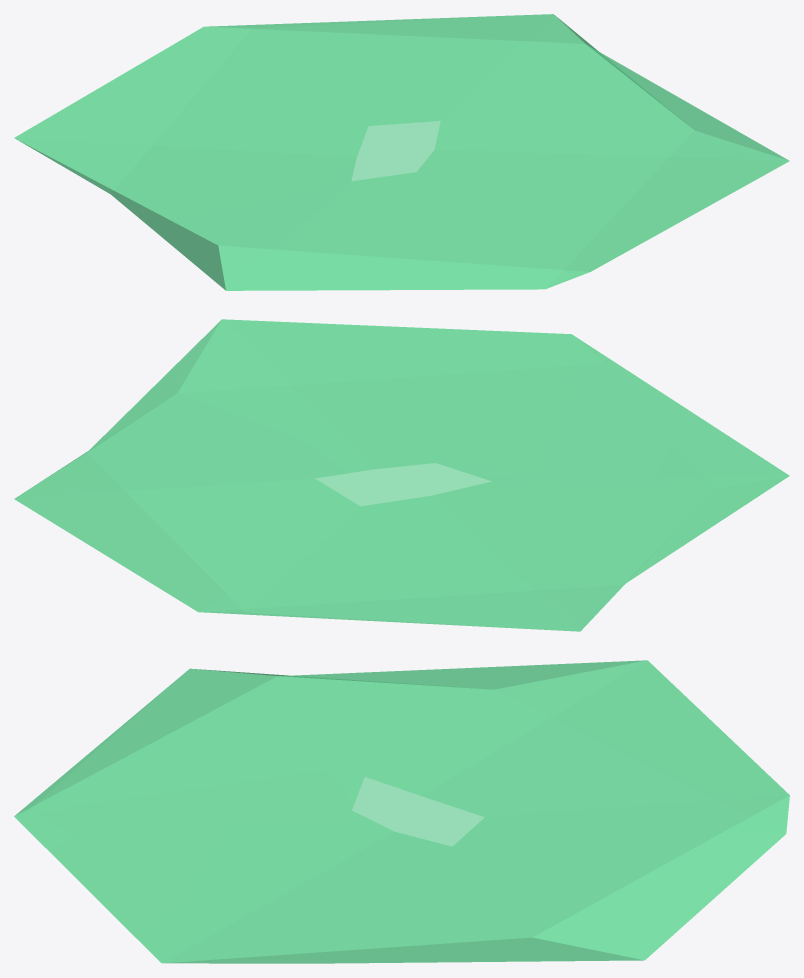
Rendered from Gruul.fbx.
3 views of the same model, one above another, from view 1: azimuth 30°, elevation 25°; view 2: azimuth 150°, elevation 25°; view 3: azimuth 270°, elevation 25° (orthographic). The views are drawn at different scales.
Parts seen in each view (by area): view 1: Gruul; view 2: Gruul; view 3: Gruul.
Part boxes in pixels (<box>): Gruul: <box>14,14,789,290</box>; Gruul: <box>14,319,789,631</box>; Gruul: <box>14,660,789,963</box>.
Size of the model in its own units: 19.18 by 0.587 by 20.72.
